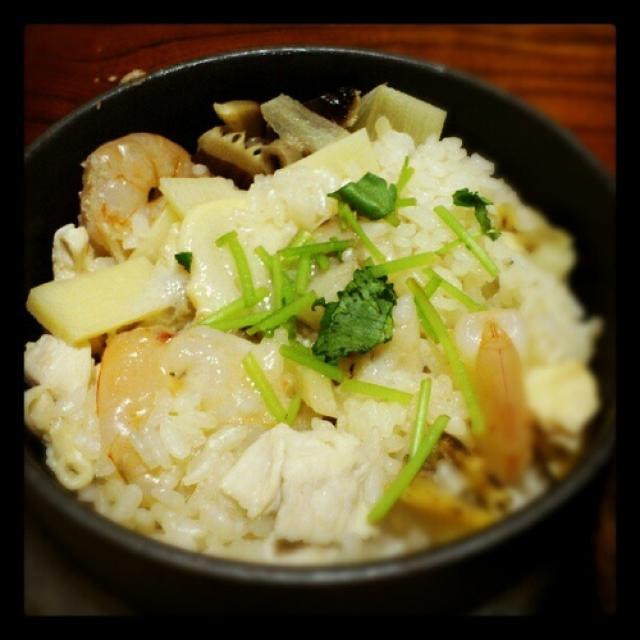猪肉菜式: (32, 0, 625, 640)
